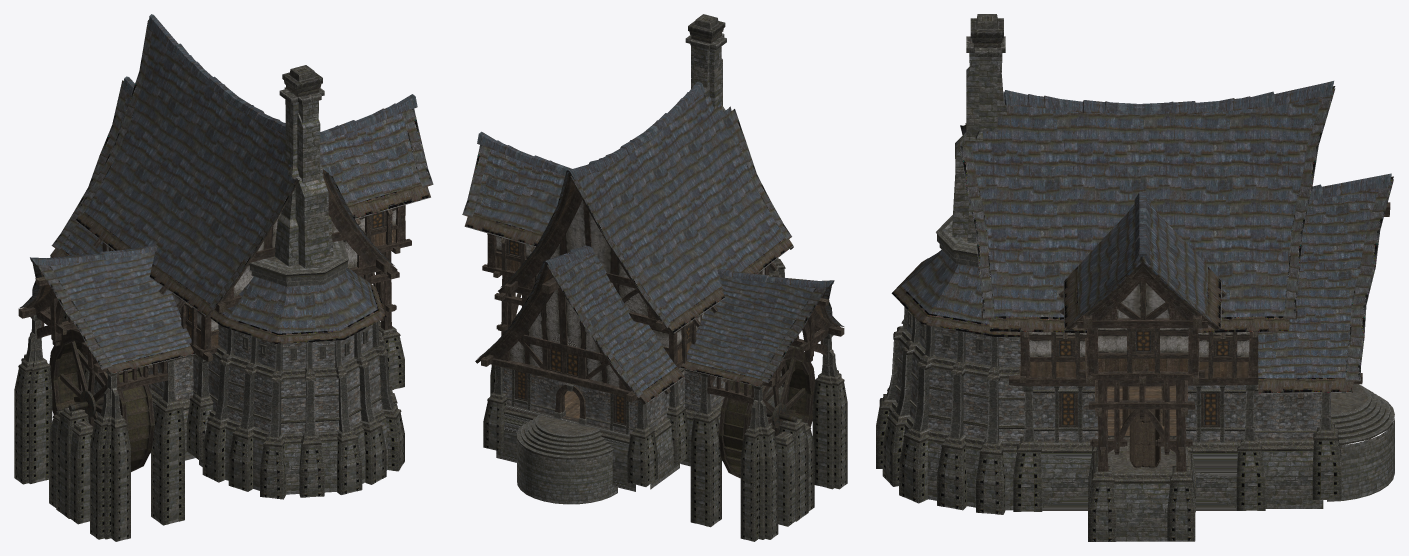
File: eso_gu5_Lumbermill-transformed.glb
3 renders of one model, left to right at view 1: azimuth 30°, elevation 25°; view 2: azimuth 150°, elevation 25°; view 3: azimuth 270°, elevation 25°, orthographic. The views are drawn at different scales.
Visible parts, largest first — view 1: default; view 2: default; view 3: default.
Boxes of the visible parts, x1,y1,x2,y2 form: default: (14, 14, 433, 541); default: (462, 14, 847, 541); default: (876, 14, 1394, 541).
Size of the model in its own units: 44.11 by 49.6 by 44.94.
14 materials, 14 textured.
